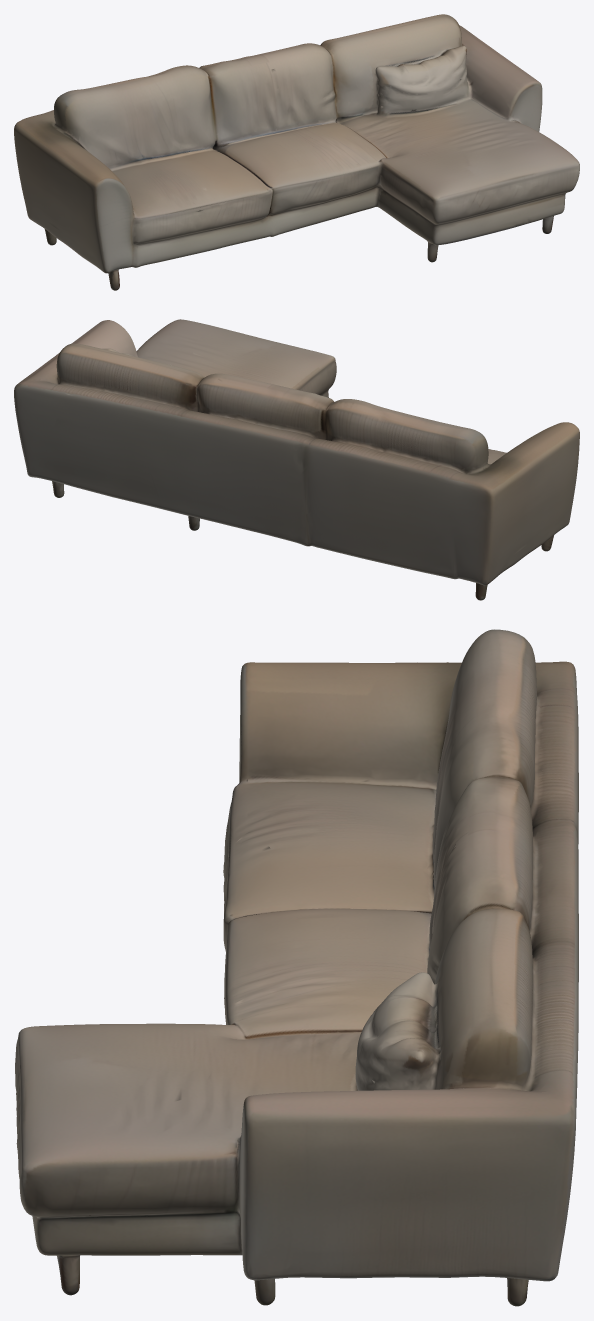
Rendered from sofa_2.fbx.
The picture shows the model from 3 angles, top to bottom: view 1: azimuth 30°, elevation 25°; view 2: azimuth 150°, elevation 25°; view 3: azimuth 270°, elevation 25°; orthographic projection. The views are drawn at different scales.
Parts seen in each view (by area): view 1: texture_v100; view 2: texture_v100; view 3: texture_v100.
Boxes of the visible parts, bbox=[...] form: texture_v100: bbox=[14, 14, 579, 290]; texture_v100: bbox=[14, 319, 579, 600]; texture_v100: bbox=[15, 629, 578, 1306].
Bounding box in the file's own units: 105 × 33.98 × 57.17.
1 material, 1 textured.
